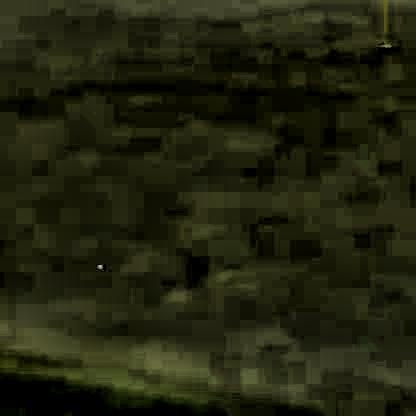golfball: (95, 260, 102, 267)
